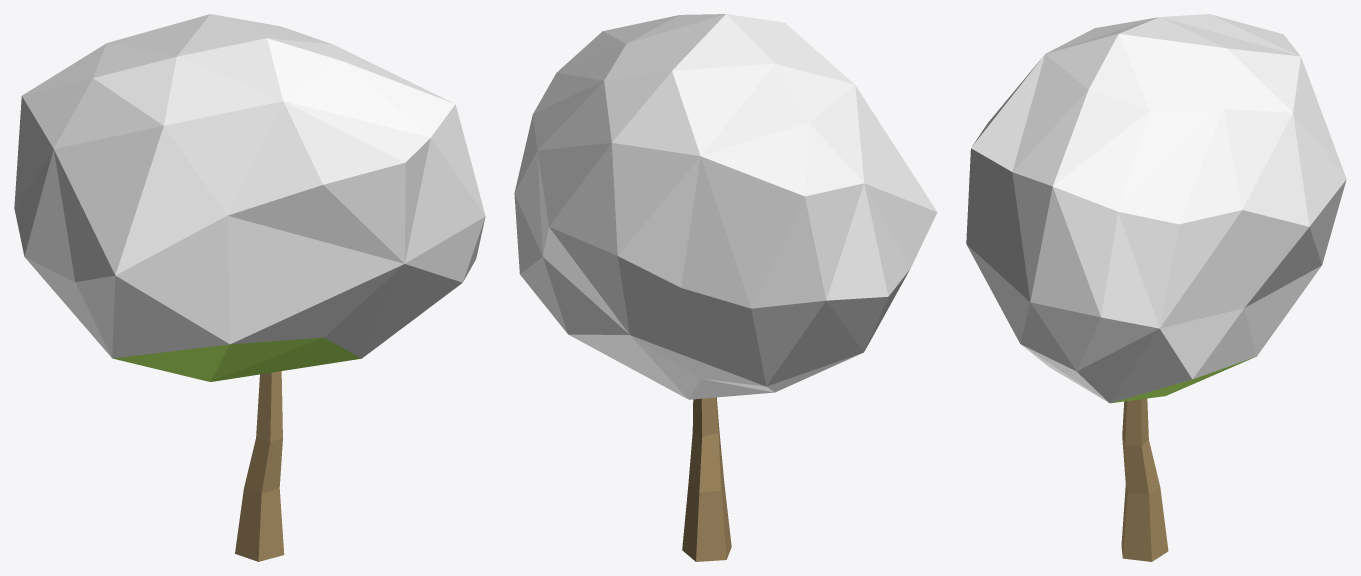
Rendered from Apple_Tree_m_Snow_02_LOD.fbx.
The picture shows the model from 3 angles, left to right: view 1: azimuth 30°, elevation 25°; view 2: azimuth 150°, elevation 25°; view 3: azimuth 270°, elevation 25°; orthographic projection. The views are drawn at different scales.
Parts seen in each view (by area): view 1: Apple_Tree_m_Snow_02_LOD0; view 2: Apple_Tree_m_Snow_02_LOD0; view 3: Apple_Tree_m_Snow_02_LOD0.
Part boxes in pixels (<box>): Apple_Tree_m_Snow_02_LOD0: <box>14,14,485,561</box>; Apple_Tree_m_Snow_02_LOD0: <box>514,14,937,561</box>; Apple_Tree_m_Snow_02_LOD0: <box>966,14,1346,561</box>.
Size of what is drawn, in the model's own units: 513 by 636 by 426.
